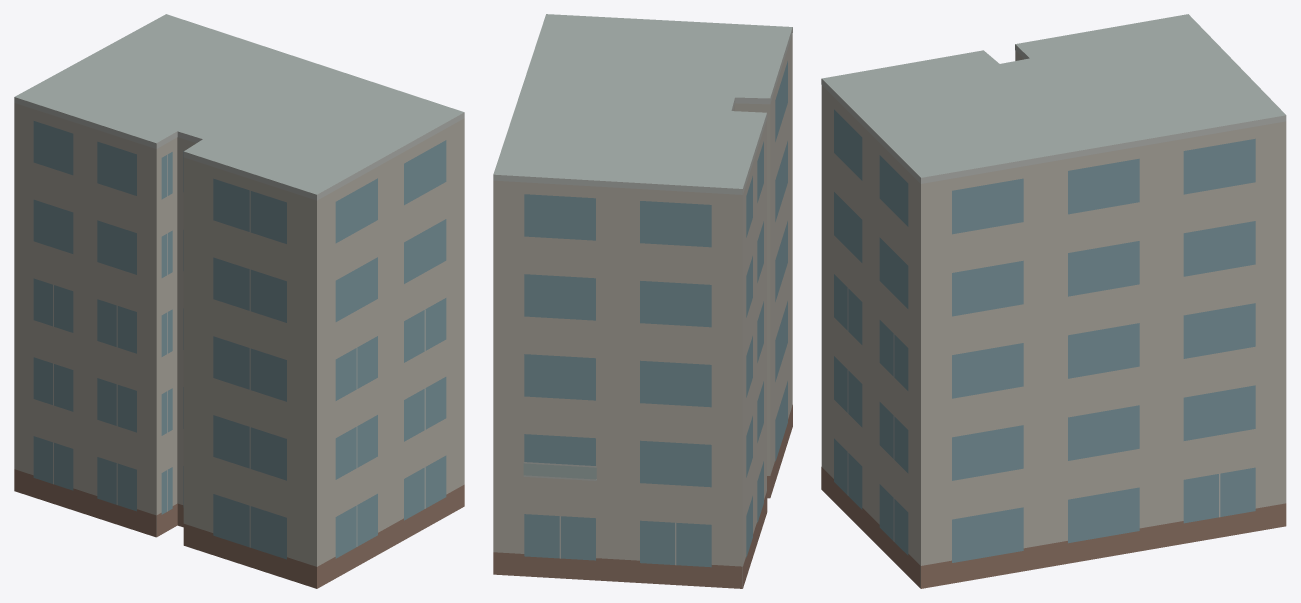
The model's file is survey-upis-32596132.glb.
The picture shows the model from 3 angles, left to right: view 1: azimuth 30°, elevation 25°; view 2: azimuth 150°, elevation 25°; view 3: azimuth 270°, elevation 25°; orthographic projection. The views are drawn at different scales.
Visible parts, largest first — view 1: survey-upis-32596132.tmp; view 2: survey-upis-32596132.tmp; view 3: survey-upis-32596132.tmp.
Part boxes in pixels (bbox=[...]): survey-upis-32596132.tmp: bbox=[14, 14, 464, 588]; survey-upis-32596132.tmp: bbox=[493, 14, 792, 588]; survey-upis-32596132.tmp: bbox=[821, 14, 1286, 588].
Bounding box in the file's own units: 14.12 × 16.5 × 16.93.
